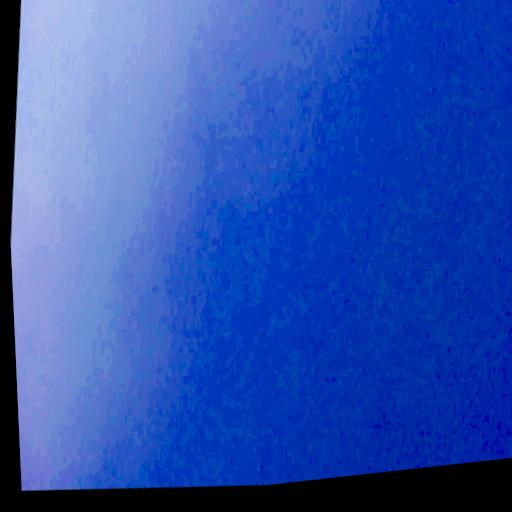drones: (327, 207, 332, 216)
